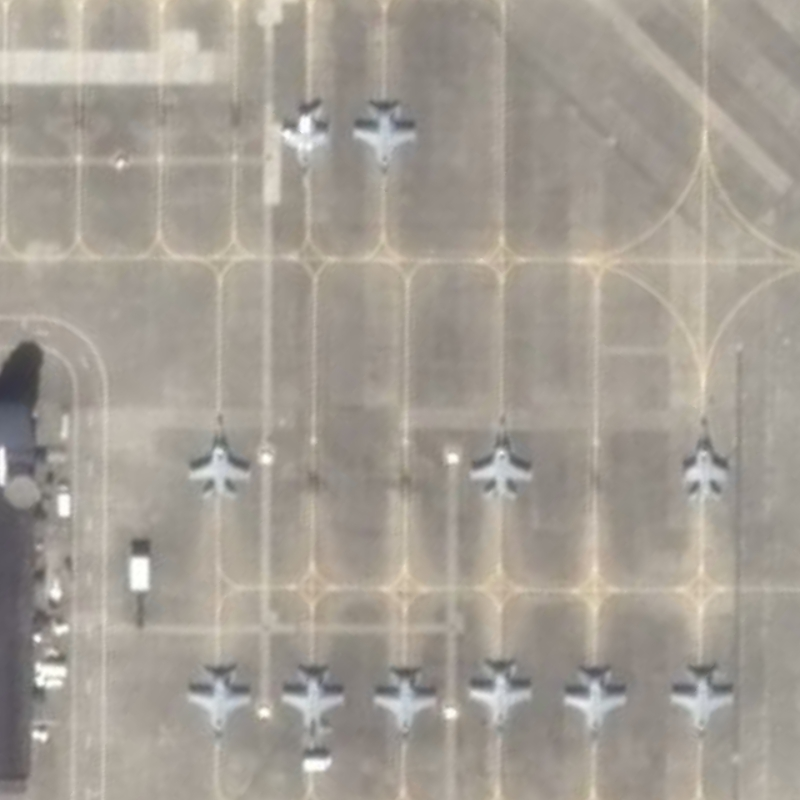A16: (181, 654, 261, 761), (273, 655, 352, 763), (178, 405, 261, 507), (367, 656, 447, 761), (460, 650, 538, 756), (664, 654, 741, 760), (462, 411, 542, 511), (554, 660, 632, 755), (346, 96, 419, 190), (672, 406, 735, 513)
